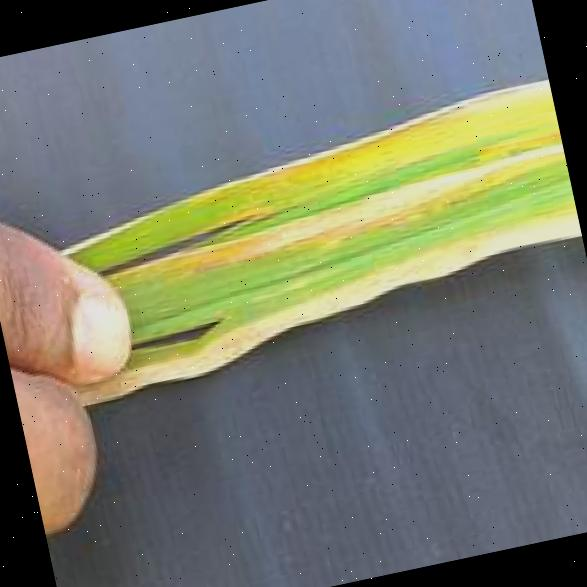Bacteria_Leaf_Blight: (56, 98, 572, 378)
